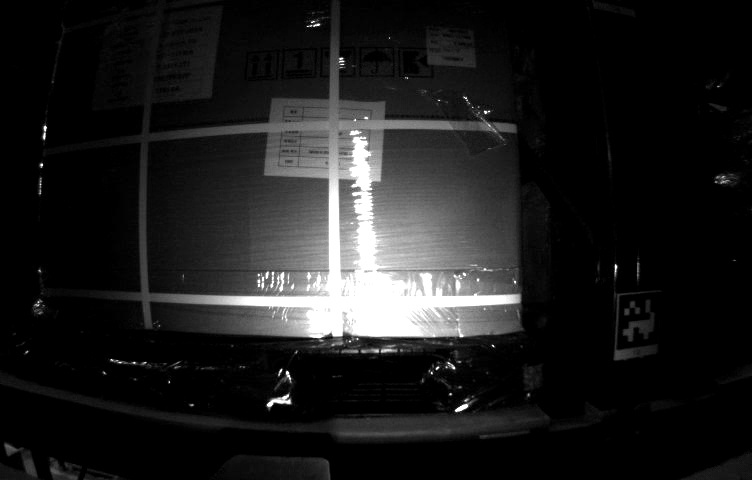True Barcode: (428, 26, 477, 68)
